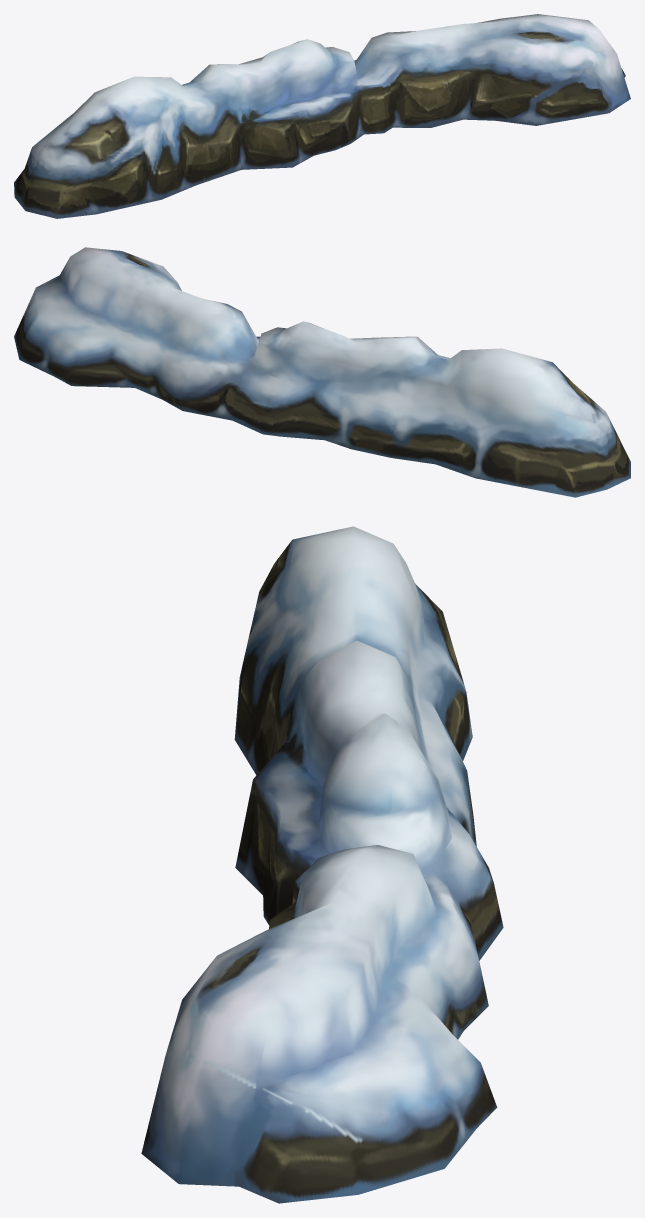
The model's file is ShiTou07.FBX.
3 views of the same model, one above another, from view 1: azimuth 30°, elevation 25°; view 2: azimuth 150°, elevation 25°; view 3: azimuth 270°, elevation 25° (orthographic). The views are drawn at different scales.
Visible parts, largest first — view 1: ShiTou07; view 2: ShiTou07; view 3: ShiTou07.
Part boxes in pixels (x1=…): ShiTou07: x1=14, y1=14, x2=630, y2=218; ShiTou07: x1=14, y1=247, x2=630, y2=497; ShiTou07: x1=141, y1=526, x2=503, y2=1203.
Bounding box in the file's own units: 818 × 134 × 218.
